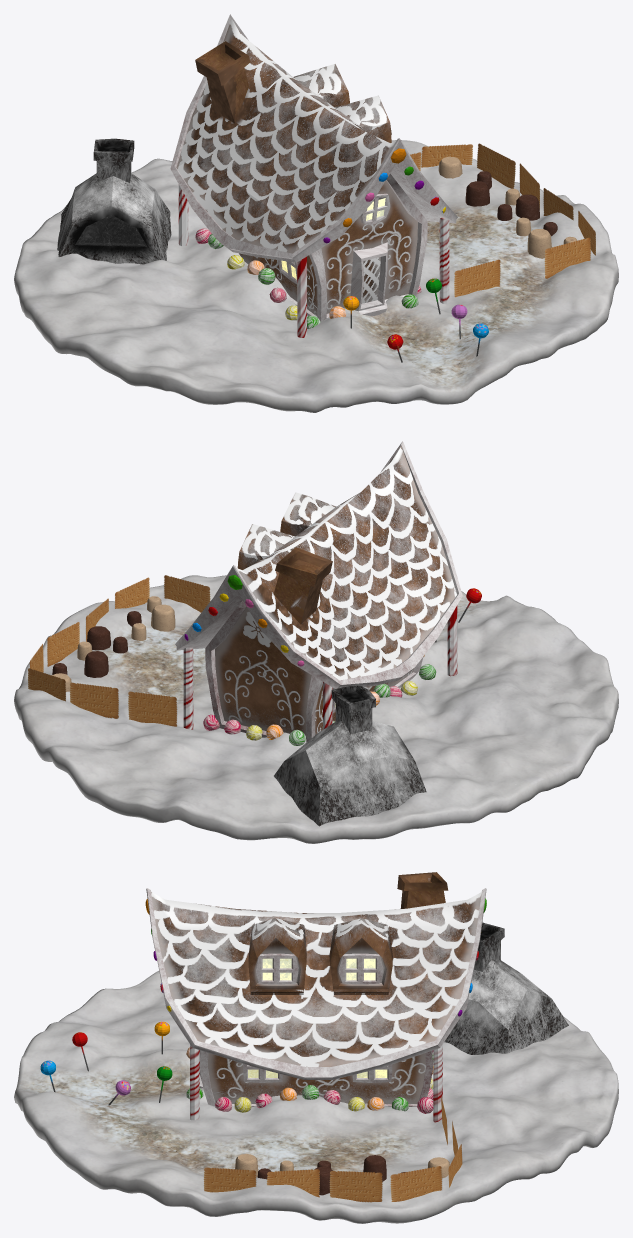
3 renders of one model, top to bottom at view 1: azimuth 30°, elevation 25°; view 2: azimuth 150°, elevation 25°; view 3: azimuth 270°, elevation 25°, orthographic.
Parts seen in each view (by area): view 1: pDisc1, polySurface9, pCylinder6, pPlane1, pPlane2, pPlane6, pPlane9, pCylinder8, pPlane4, pCylinder9, pCylinder10; view 2: pDisc1, polySurface9, pCylinder6, pPlane7, pPlane8, pPlane2, pPlane5, pPlane9, pPlane3, pCylinder8, pCylinder9; view 3: pDisc1, polySurface9, pCylinder6, pPlane5, pPlane6, pPlane3, pPlane4.
Part boxes in pixels (box(x1,y1,x2,y2)): pDisc1: box(14, 140, 618, 412); polySurface9: box(170, 14, 457, 337); pCylinder6: box(57, 138, 171, 264); pPlane1: box(454, 259, 500, 297); pPlane2: box(544, 237, 590, 278); pPlane6: box(477, 143, 515, 188); pPlane9: box(421, 144, 472, 167); pCylinder8: box(527, 229, 551, 258); pPlane4: box(543, 188, 573, 220); pCylinder9: box(465, 181, 489, 206); pCylinder10: box(515, 194, 539, 220); pDisc1: box(14, 575, 618, 843); polySurface9: box(175, 441, 462, 742); pCylinder6: box(274, 684, 426, 826); pPlane7: box(128, 691, 177, 726); pPlane8: box(70, 682, 118, 718); pPlane2: box(164, 575, 210, 612); pPlane5: box(47, 622, 79, 666); pPlane9: box(28, 668, 65, 701); pPlane3: box(115, 577, 149, 608); pCylinder8: box(151, 604, 175, 631); pCylinder9: box(84, 651, 108, 677); pDisc1: box(14, 971, 618, 1223); polySurface9: box(145, 872, 486, 1122); pCylinder6: box(444, 922, 568, 1054); pPlane5: box(329, 1171, 382, 1202); pPlane6: box(390, 1166, 442, 1201); pPlane3: box(203, 1167, 256, 1192); pPlane4: box(266, 1169, 319, 1197).
Size of the model in its own units: 27.68 by 11.01 by 27.68.
Materials: 13 (13 with a texture image).
